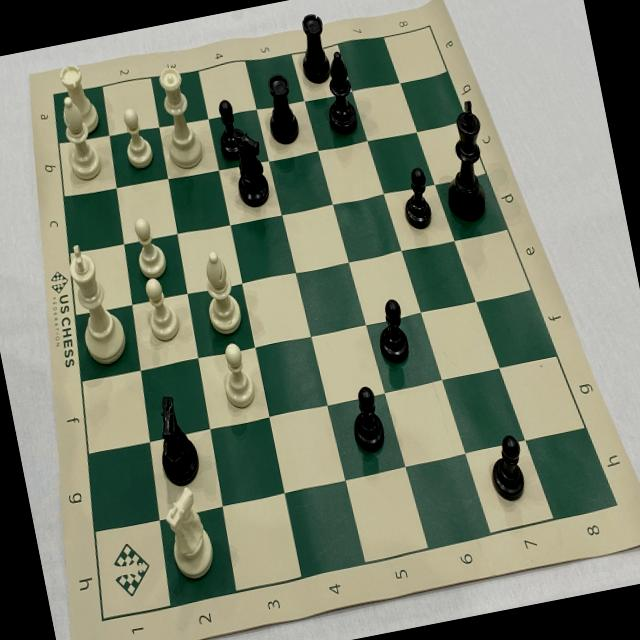black-bishop: (314, 46, 368, 142)
black-king: (425, 90, 502, 232)
black-knight: (144, 387, 212, 492), (223, 123, 281, 217)
black-pawn: (339, 373, 394, 461), (479, 428, 534, 510), (368, 288, 417, 372), (395, 160, 439, 236), (208, 91, 250, 163)
black-rook: (255, 66, 307, 152), (288, 4, 338, 91)
white-bishop: (48, 90, 111, 190), (190, 239, 251, 342)
white-king: (60, 234, 136, 372)
white-knight: (154, 478, 223, 590)
white-pawn: (210, 337, 265, 424), (133, 268, 189, 349), (114, 96, 160, 174), (124, 212, 173, 284)
white-queen: (146, 56, 213, 180)
white-rook: (52, 58, 110, 150)
